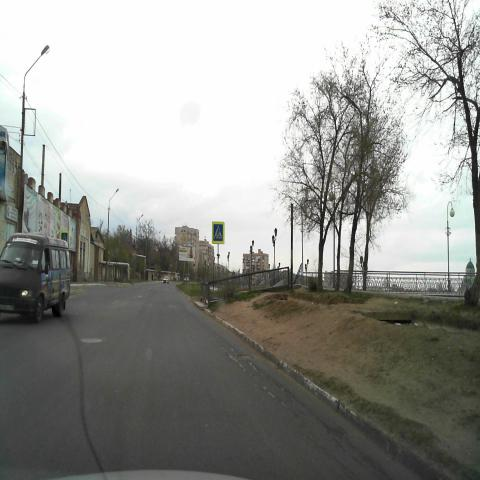5_19_1: (212, 222, 225, 244), (60, 230, 68, 242)
